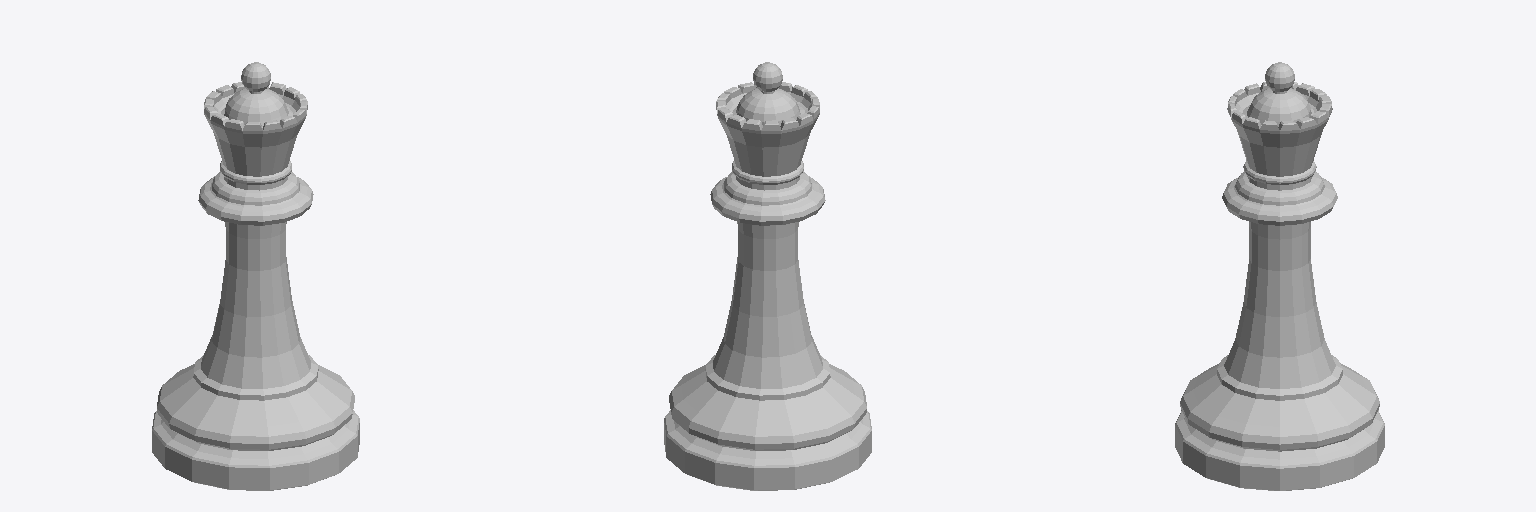
Rendered from ChessPieces_Queen.obj.
3 renders of one model, left to right at view 1: azimuth 30°, elevation 25°; view 2: azimuth 150°, elevation 25°; view 3: azimuth 270°, elevation 25°, orthographic.
Parts seen in each view (by area): view 1: Queen_Cylinder.005; view 2: Queen_Cylinder.005; view 3: Queen_Cylinder.005.
Boxes of the visible parts, x1,y1,x2,y2 form: Queen_Cylinder.005: [152, 62, 359, 490]; Queen_Cylinder.005: [664, 62, 871, 490]; Queen_Cylinder.005: [1175, 62, 1384, 490].
Size of the model in its own units: 0.4172 by 0.8425 by 0.4172.